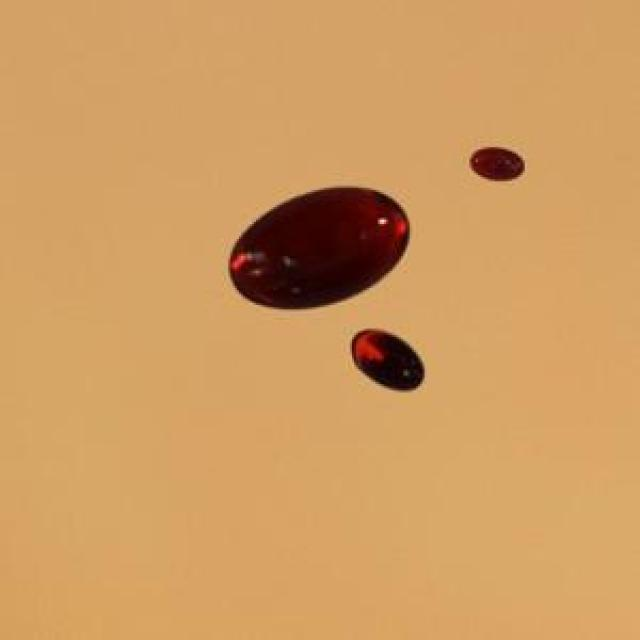Medicol: (218, 176, 416, 318), (342, 325, 436, 399), (467, 134, 530, 194)
